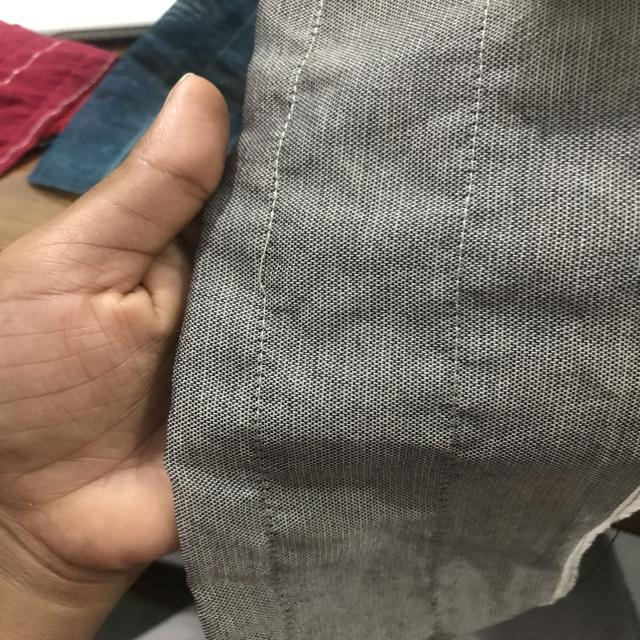good: (469, 90, 488, 190)
skip: (245, 224, 288, 298)
